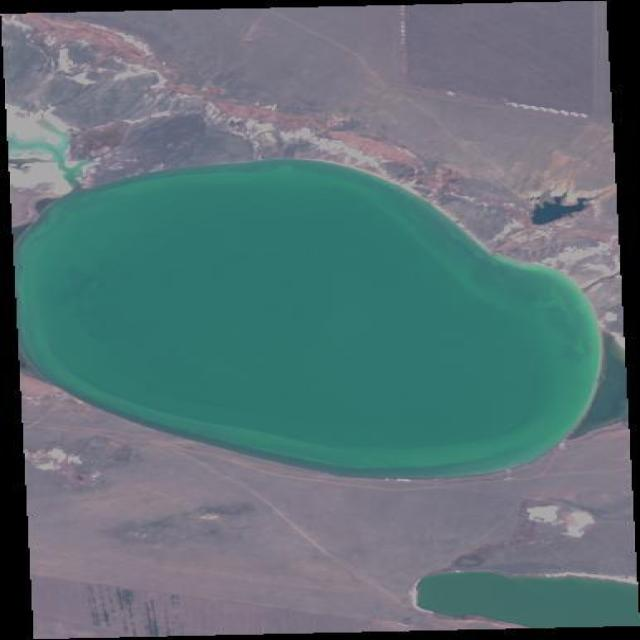argiculture: (60, 4, 612, 191), (410, 4, 607, 114)
water: (15, 159, 618, 476), (416, 572, 638, 627), (531, 194, 587, 225)
